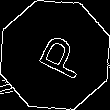P_NW: (24, 27, 86, 83)
